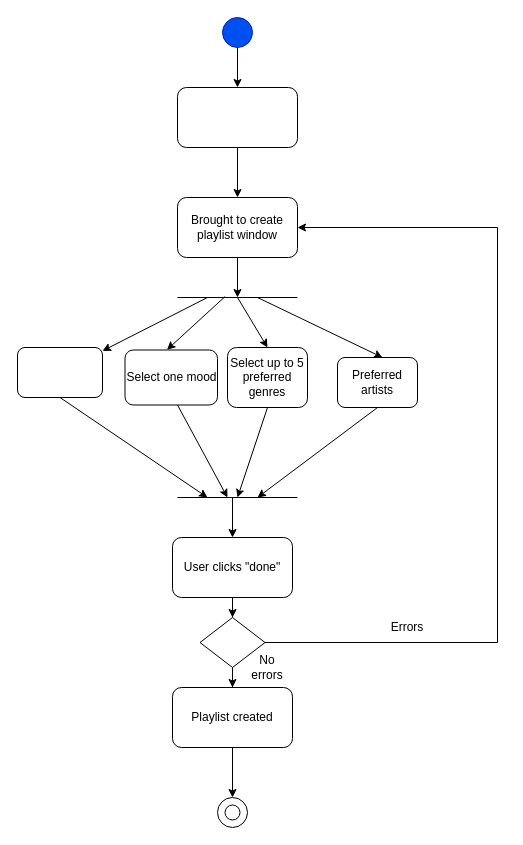
The diagram is 523 pixels wide and 845 high, and some of its shapes have lost their labels. The shapes that lost their labels are listed below. From the top down, each one's box as (x1, y1, x2, y2) in pixels, then its label:
(176, 86, 298, 148): User clicks "create playlist button"
(16, 346, 102, 398): Enter title
